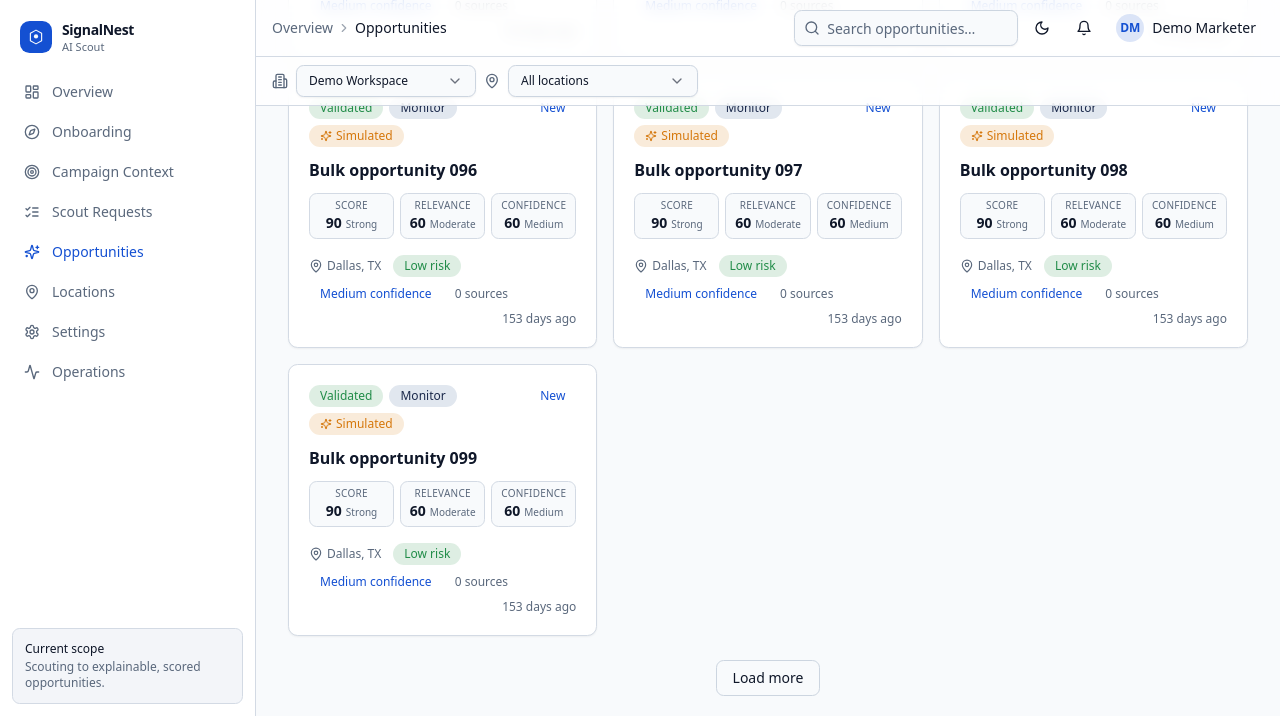
Test: feed paging and truthful count (P6-UI-022) › never presents a page as the whole result when the total is not reported
(page scrolled)
Click the button "Load more" at (768,678), box [716,660,820,696]
(page scrolled)
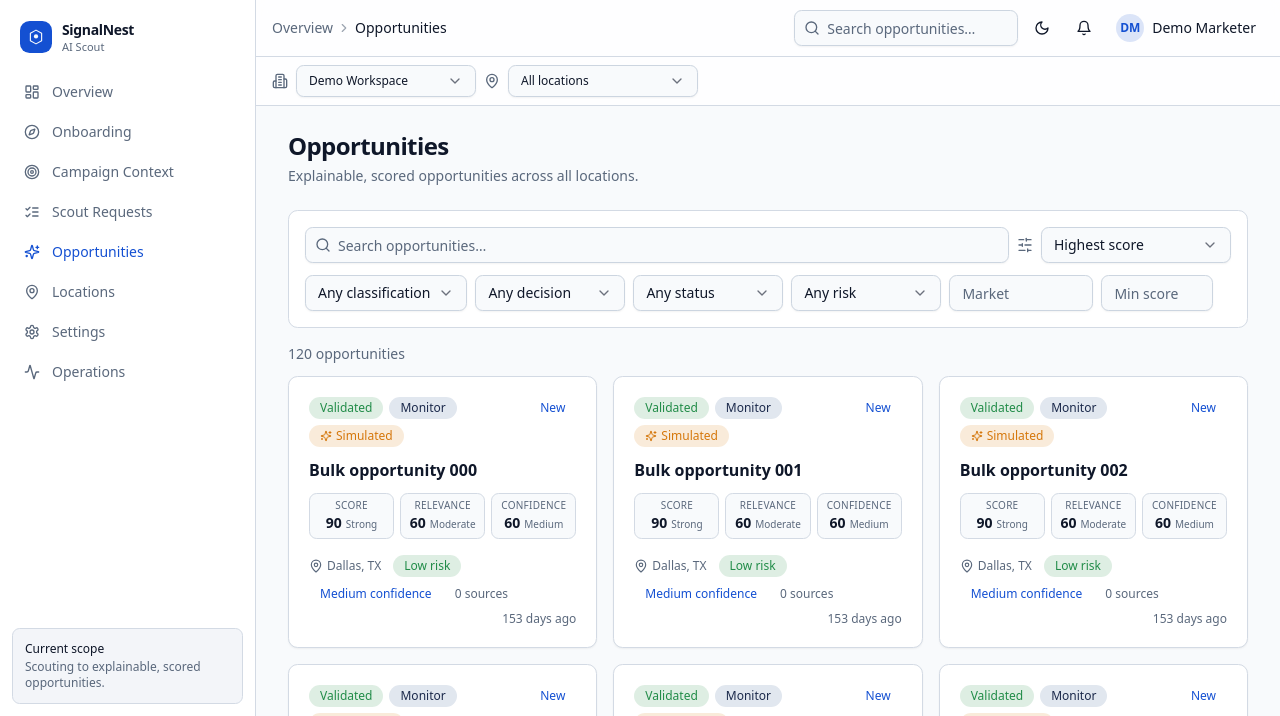
Now the text "120 opportunities" is shown, box [288,344,405,364]
